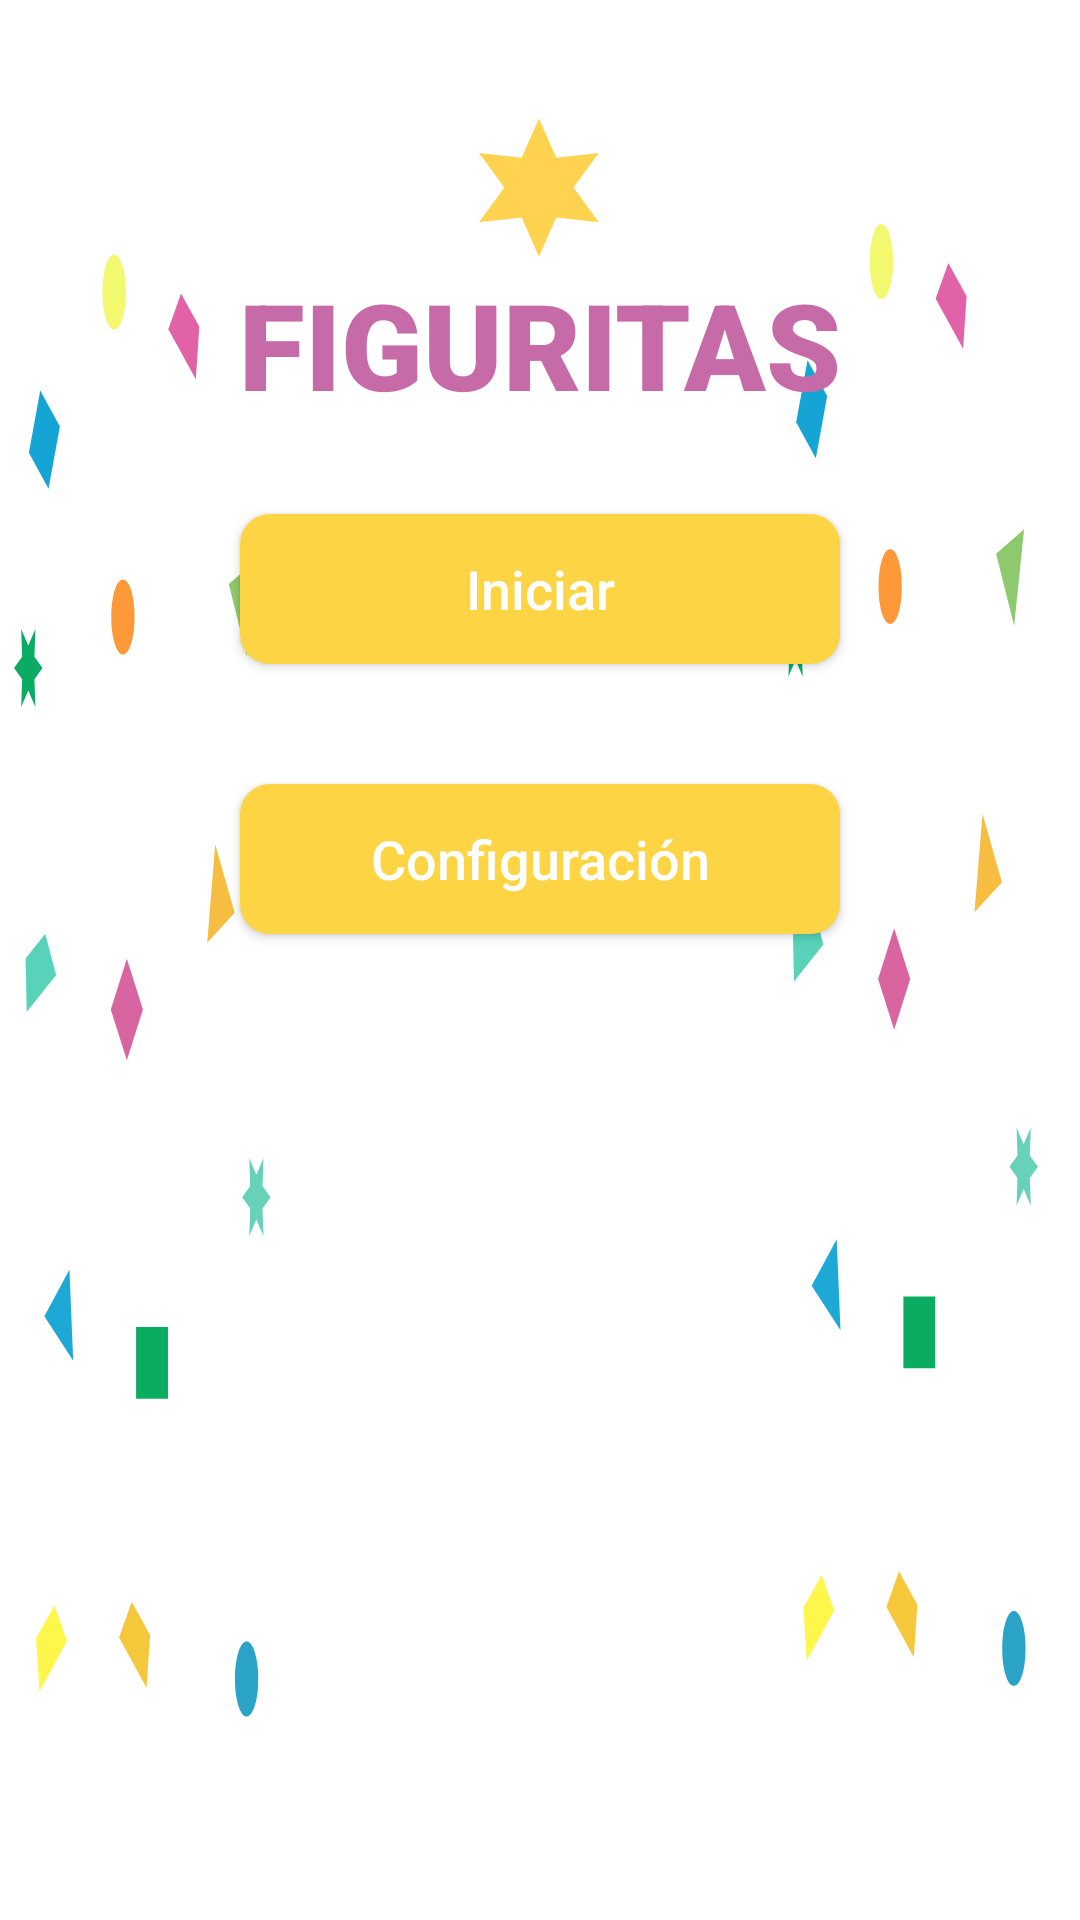

Named icons in this screenshot (1080x1920) and their bounding boxes, bbox=(x1, y1, x2, y2):
star backgroud: bbox=(479, 119, 599, 257)
